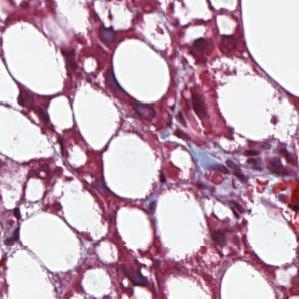ballooning: (206, 56, 297, 154)
